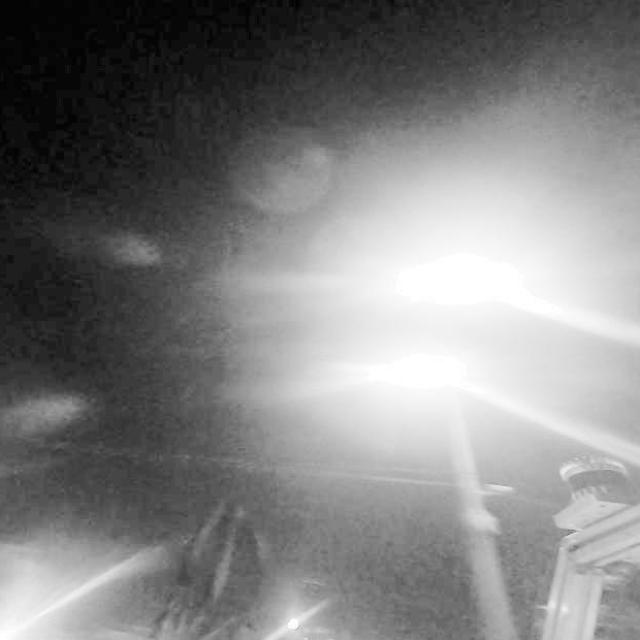Light: (396, 243, 522, 314), (364, 348, 466, 400)
